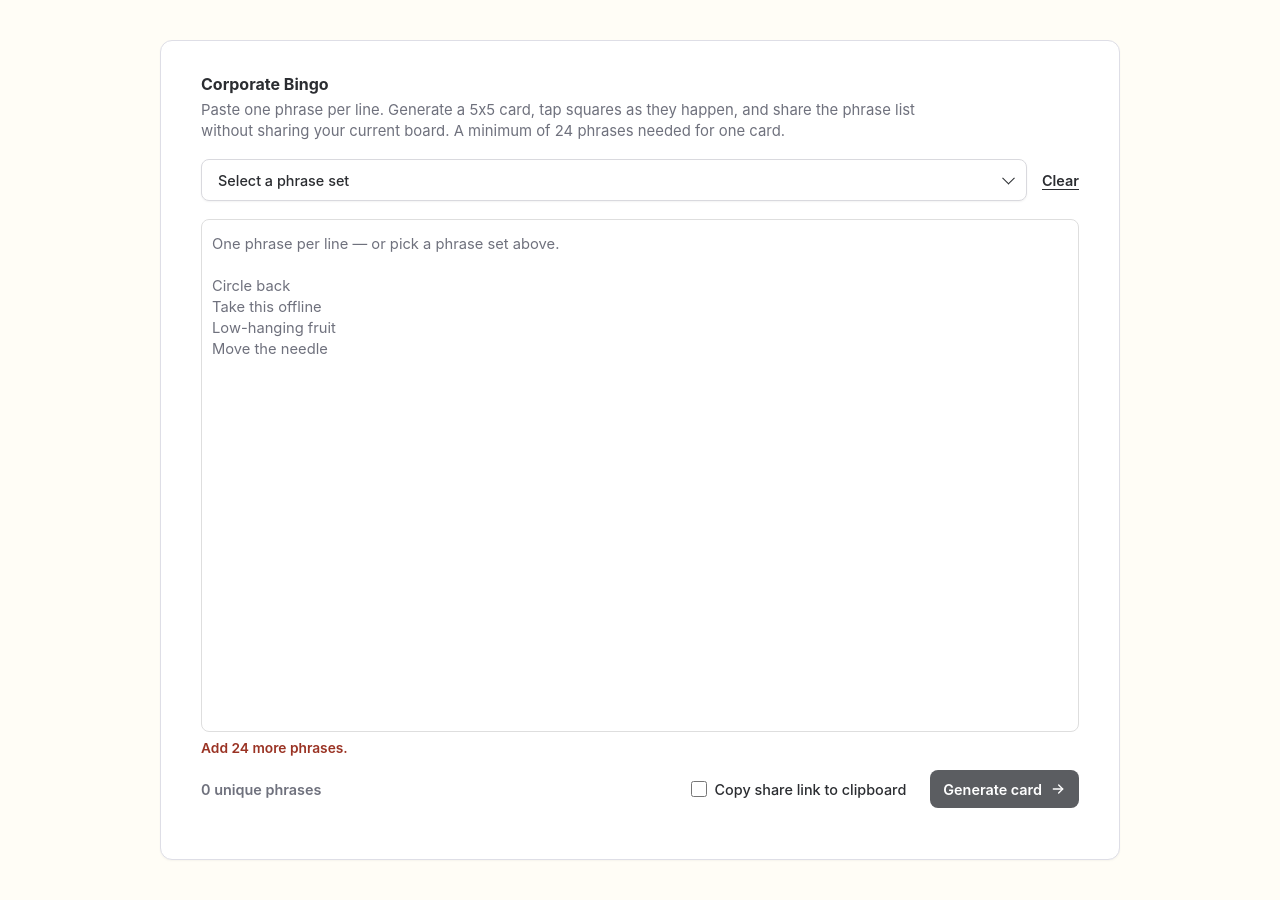
Test case: App two-step flow › clears phrases from the entry page
The width and height of the screenshot is (1280, 900).
Step 1. Select "Standard corporate" in the dropdown named "Phrase set" → (614, 180), box x1=201 y1=159 x2=1027 y2=201
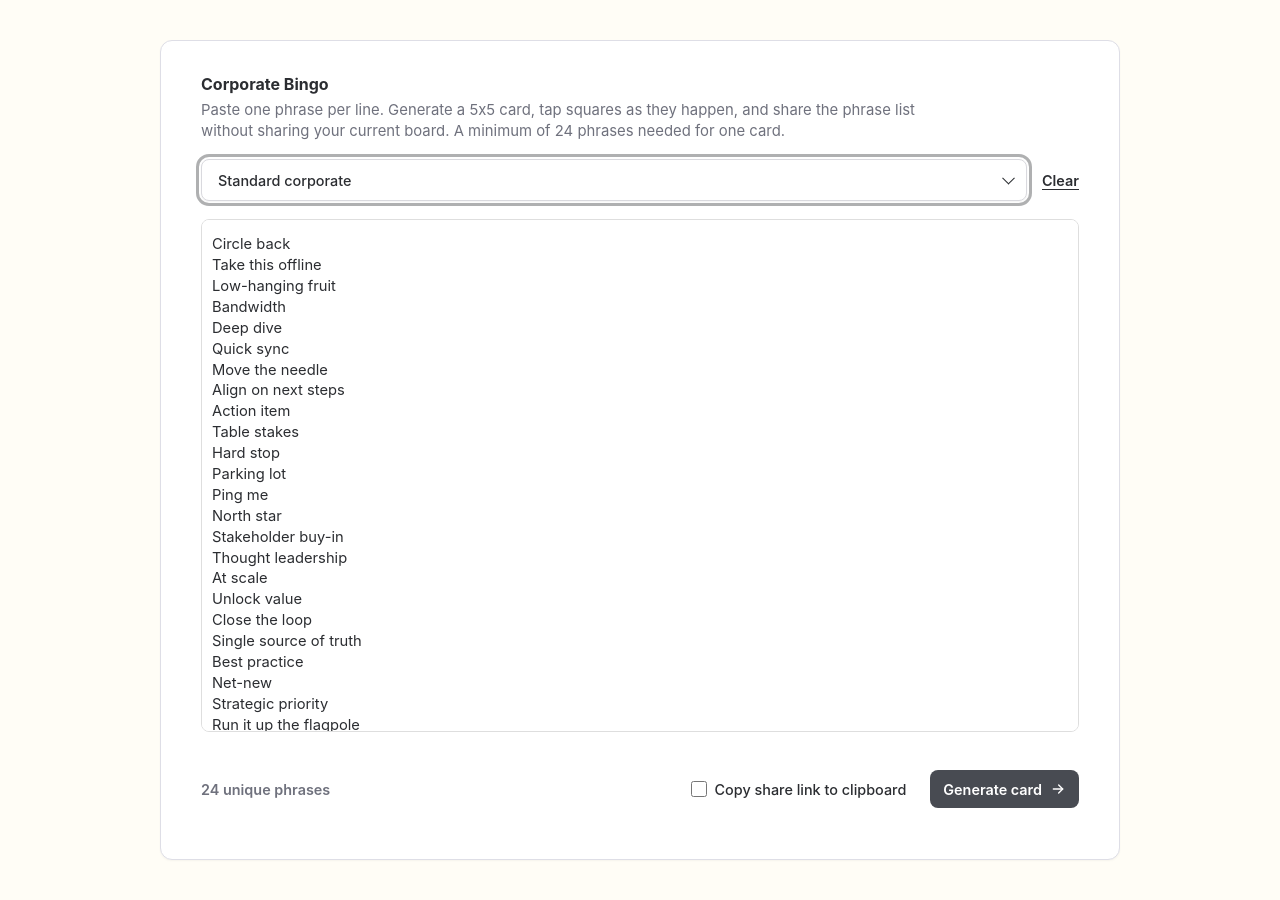
Step 2. Click the button "Clear" → (1060, 180), box x1=1042 y1=172 x2=1079 y2=189
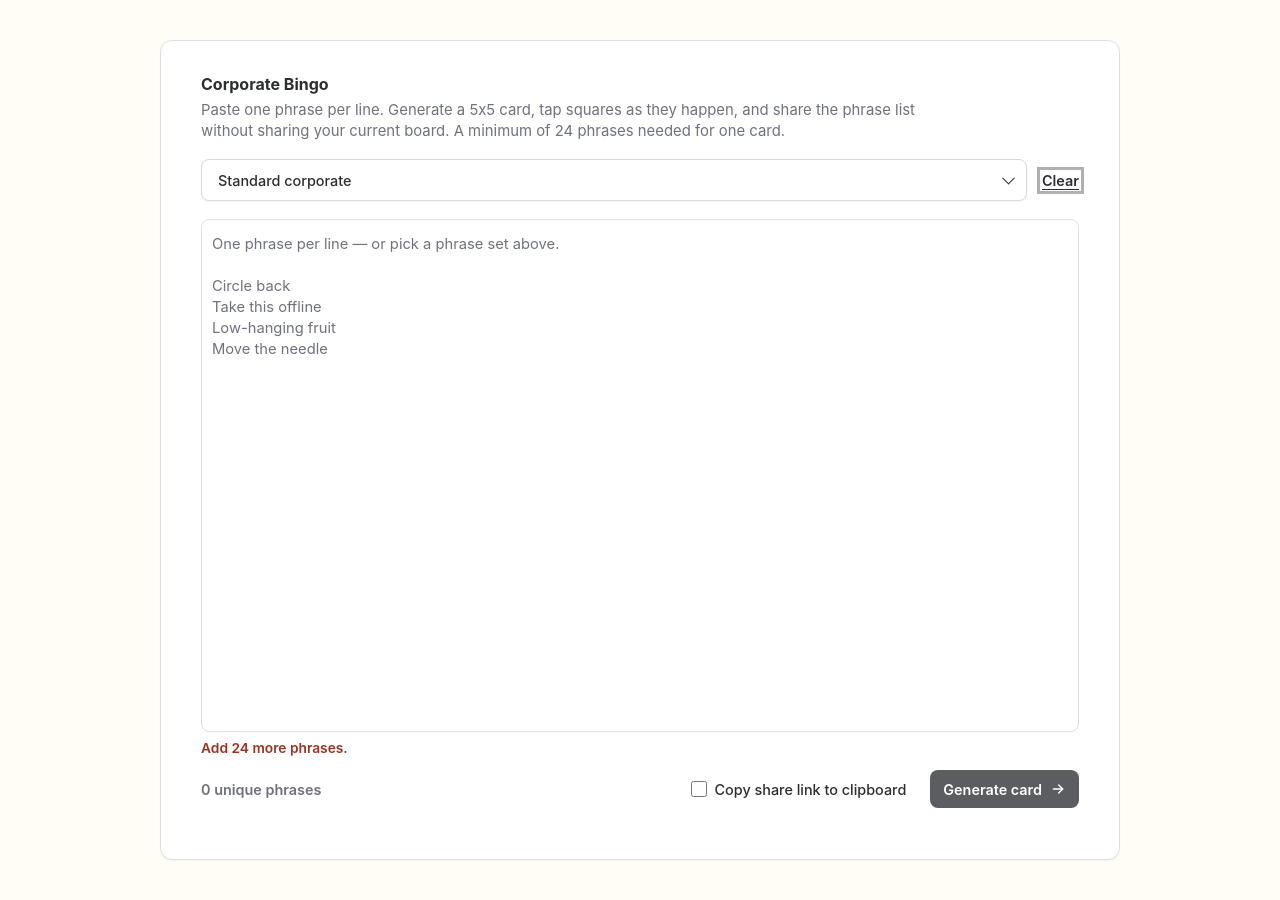
Expected: the button "Generate card" is disabled, x1=930 y1=770 x2=1079 y2=808
Now the text box named "Phrases" is empty, box x1=201 y1=219 x2=1079 y2=732
Now the text "0 unique phrases" is shown, box x1=201 y1=780 x2=321 y2=798
